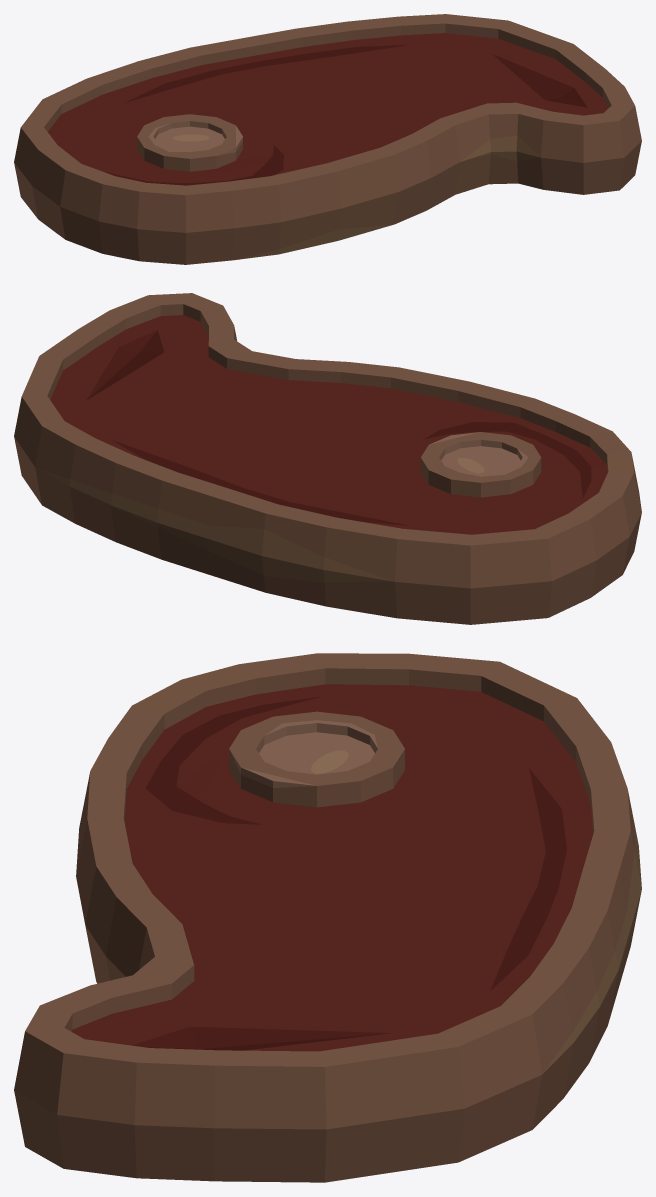
The model's file is mesh_meat_cooked.fbx.
The picture shows the model from 3 angles, top to bottom: view 1: azimuth 30°, elevation 25°; view 2: azimuth 150°, elevation 25°; view 3: azimuth 270°, elevation 25°; orthographic projection. The views are drawn at different scales.
Parts seen in each view (by area): view 1: mesh_meat_cooked; view 2: mesh_meat_cooked; view 3: mesh_meat_cooked.
Part boxes in pixels (left/top/right/bottom): mesh_meat_cooked: left=14, top=14, right=641, bottom=264; mesh_meat_cooked: left=14, top=293, right=641, bottom=624; mesh_meat_cooked: left=14, top=653, right=641, bottom=1182.
Bounding box in the file's own units: 0.6551 × 0.0909 × 0.411.
